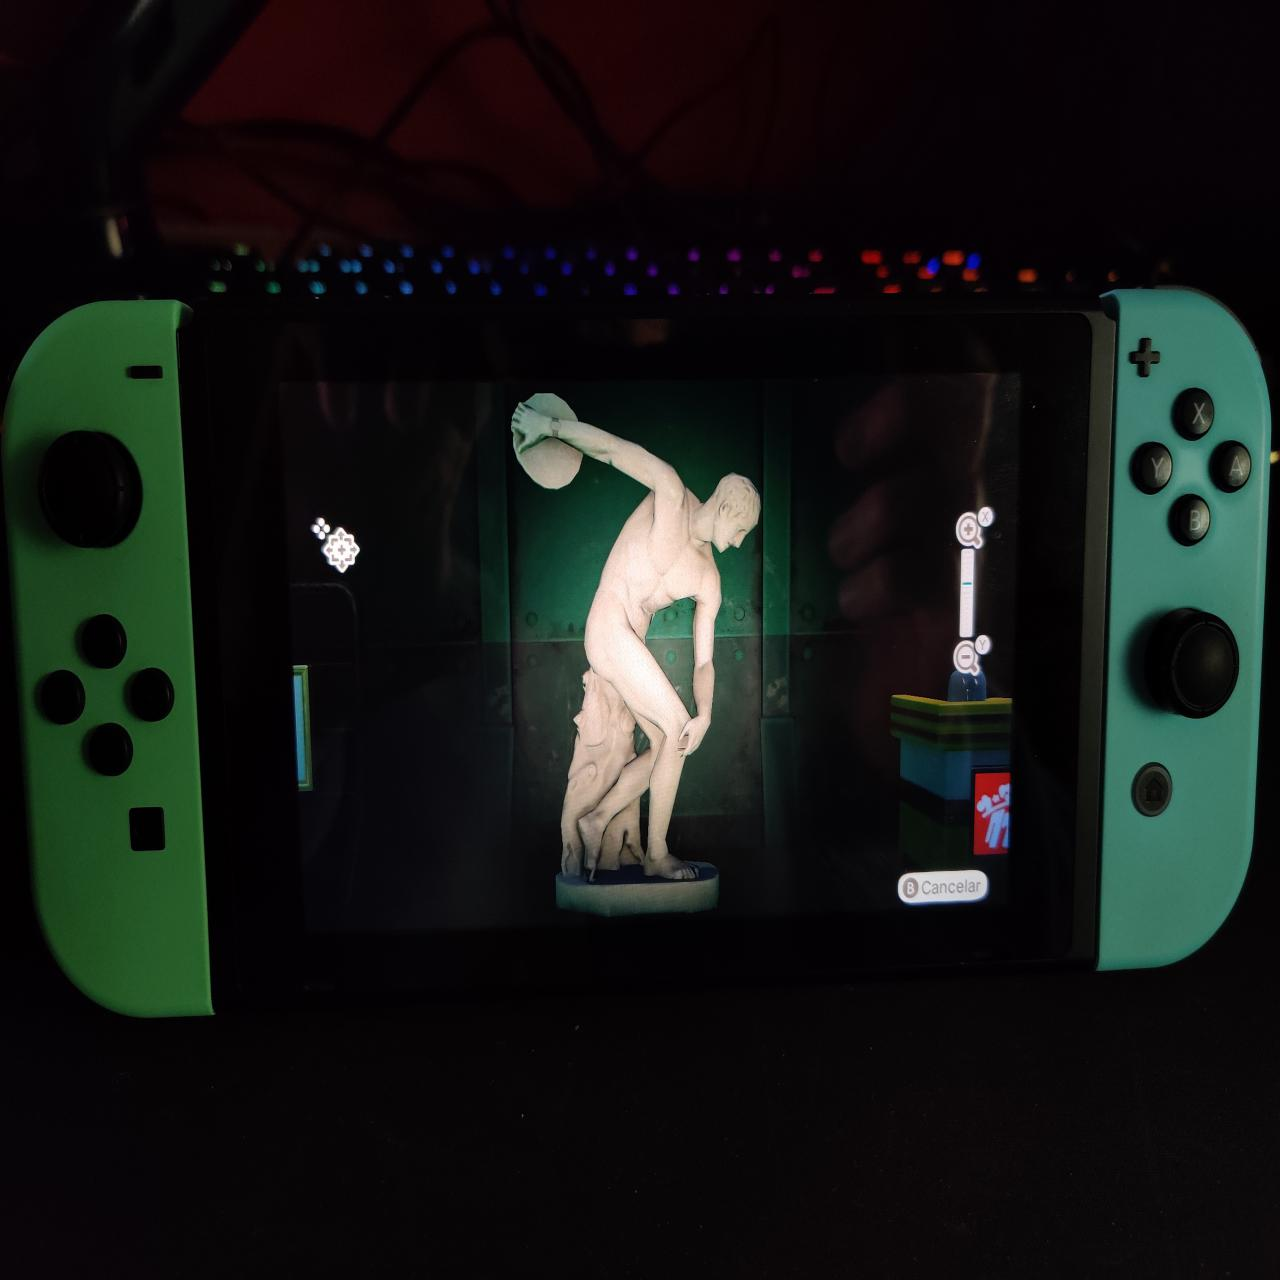DiskobolosFake: (508, 384, 765, 915)
